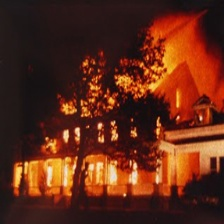fire: (44, 162, 144, 186)
